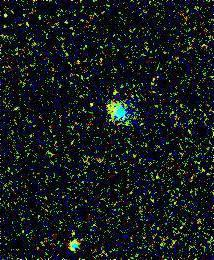star: (102, 76, 132, 106)
